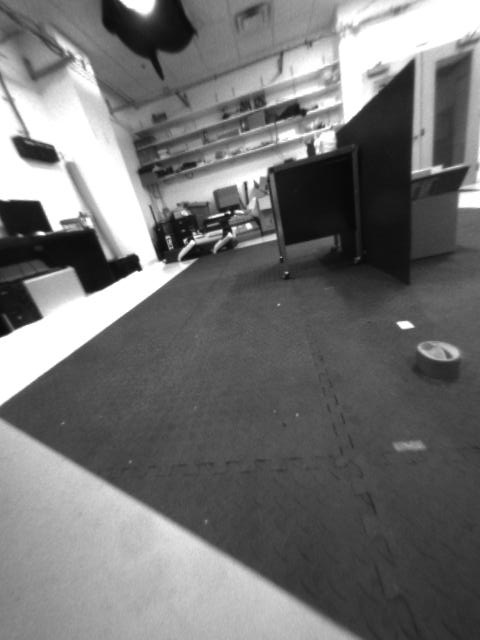dogtoy: (397, 331, 469, 385)
